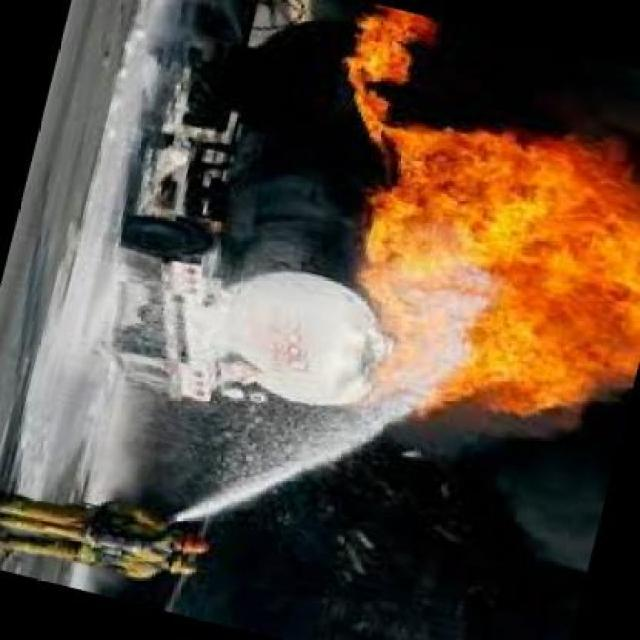Fire: (362, 124, 640, 427), (333, 5, 441, 124)
Smoke: (390, 418, 606, 570), (527, 20, 640, 129)
